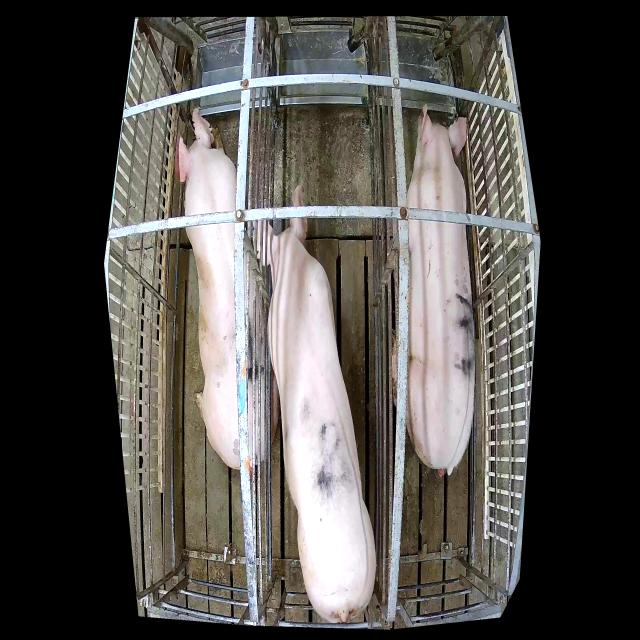pig: (252, 185, 376, 621), (174, 107, 279, 467), (406, 103, 476, 476)
